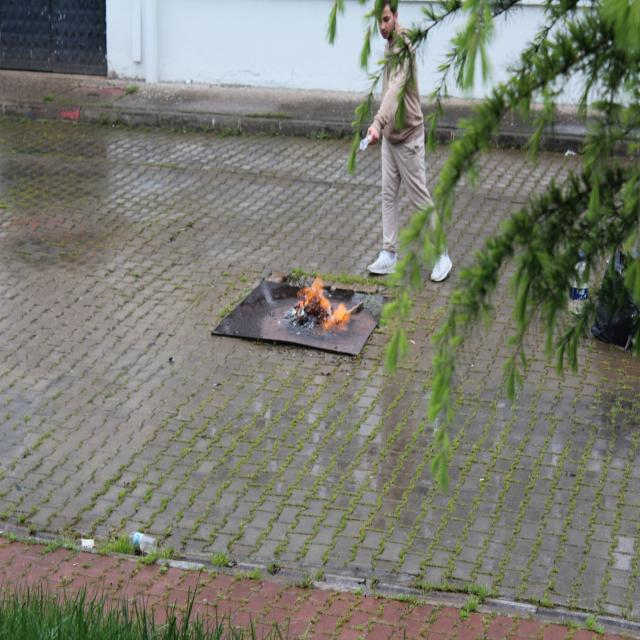fire: (287, 256, 368, 344)
